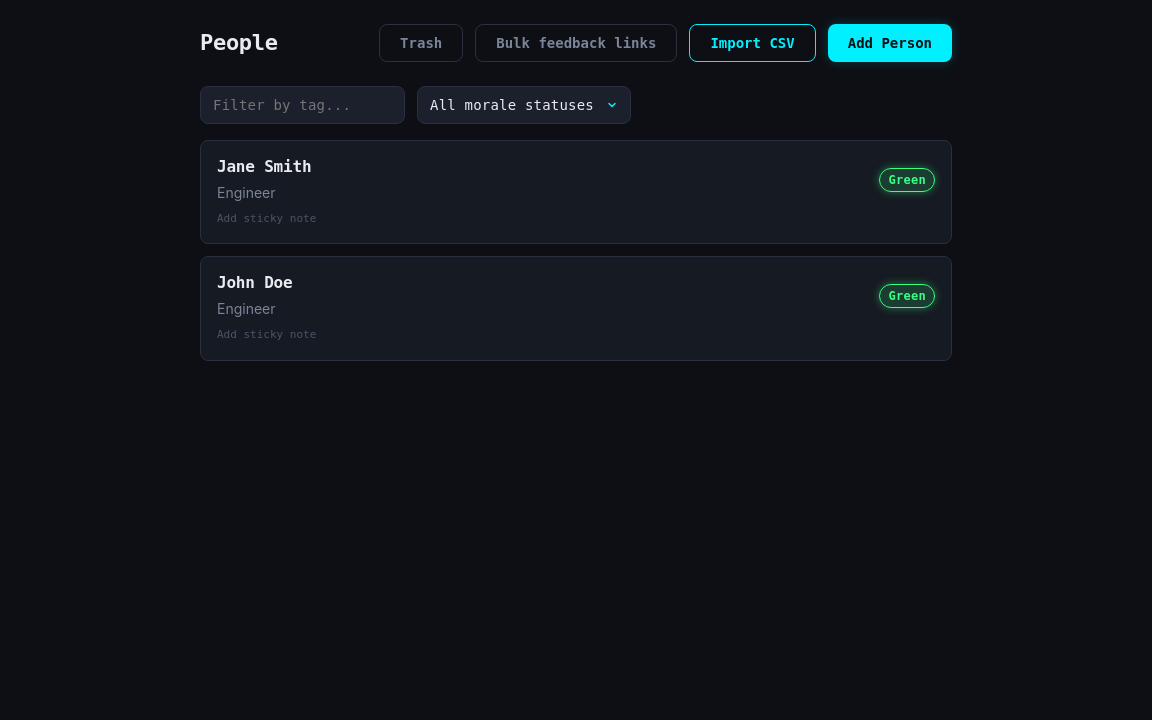
PeopleListPage - Bulk feedback links › renders a results table and a Download CSV button after creating links
The image size is (1152, 720).
Expected: the heading "Jane Smith" is shown, [217,157,311,178]
Click the button with test id "bulk-feedback-links-button" at (576, 43), box [475,24,678,62]
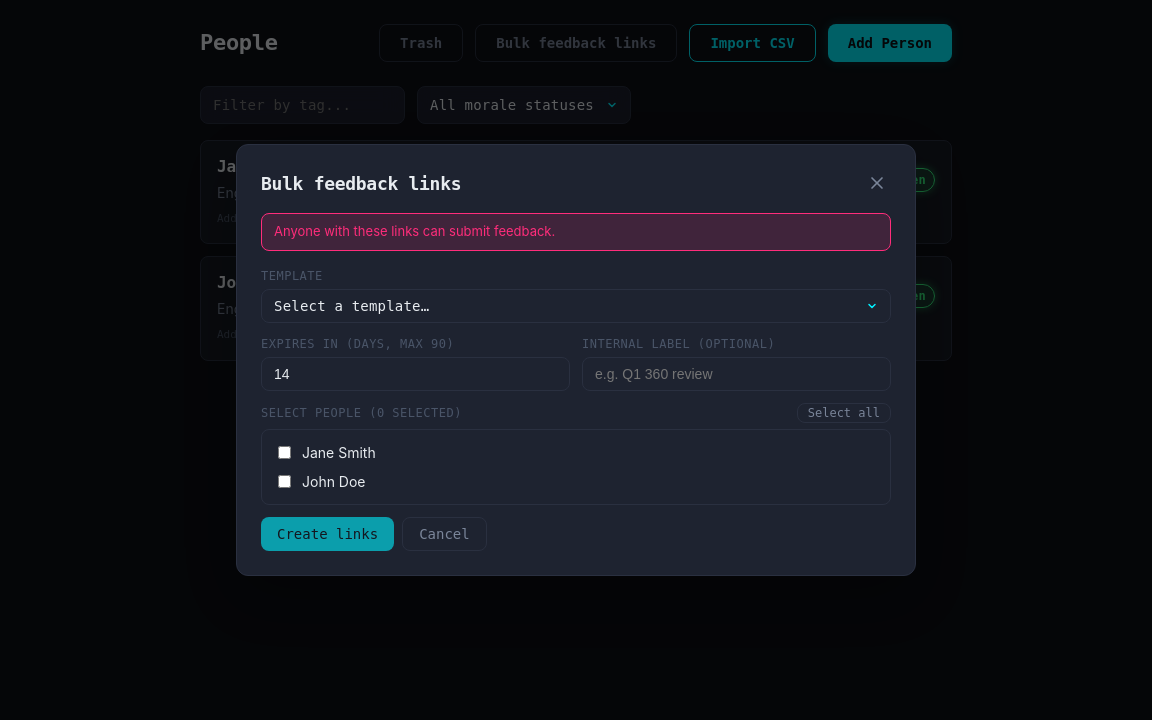
Select "Peer feedback" in the dropdown with test id "bulk-feedback-links-template-select" at (576, 306), box [261,289,891,323]
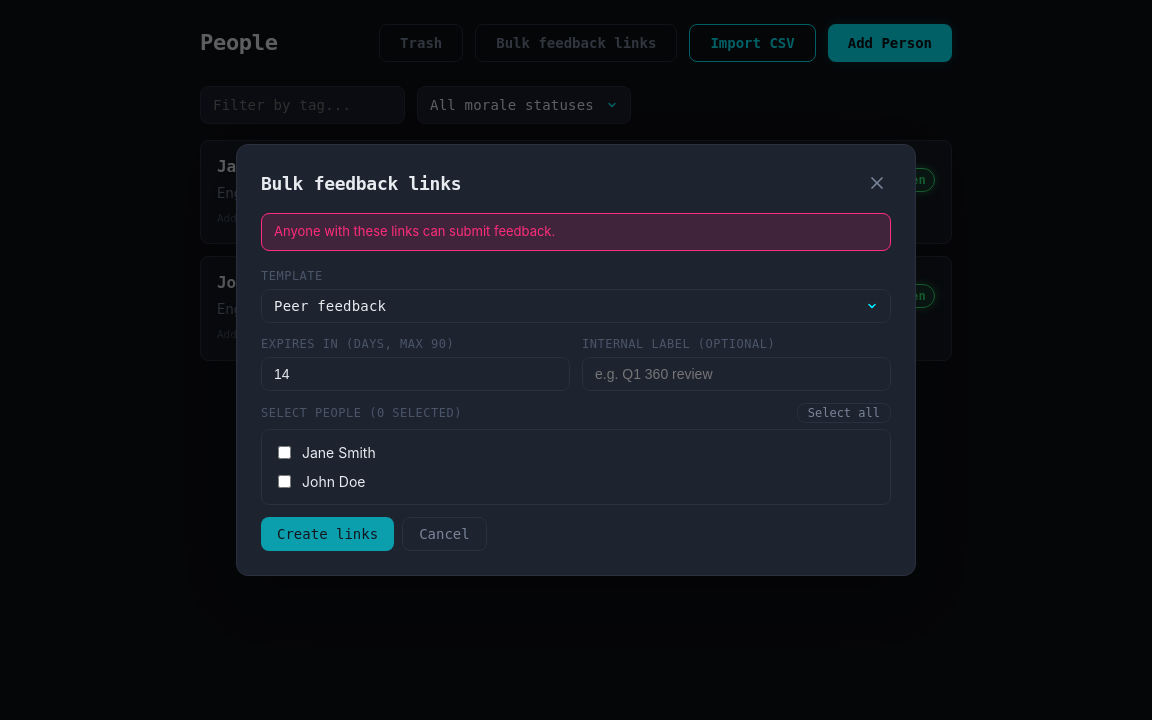
Click the checkbox with test id "bulk-feedback-links-person-p-1" at (284, 452), box [278,446,291,459]
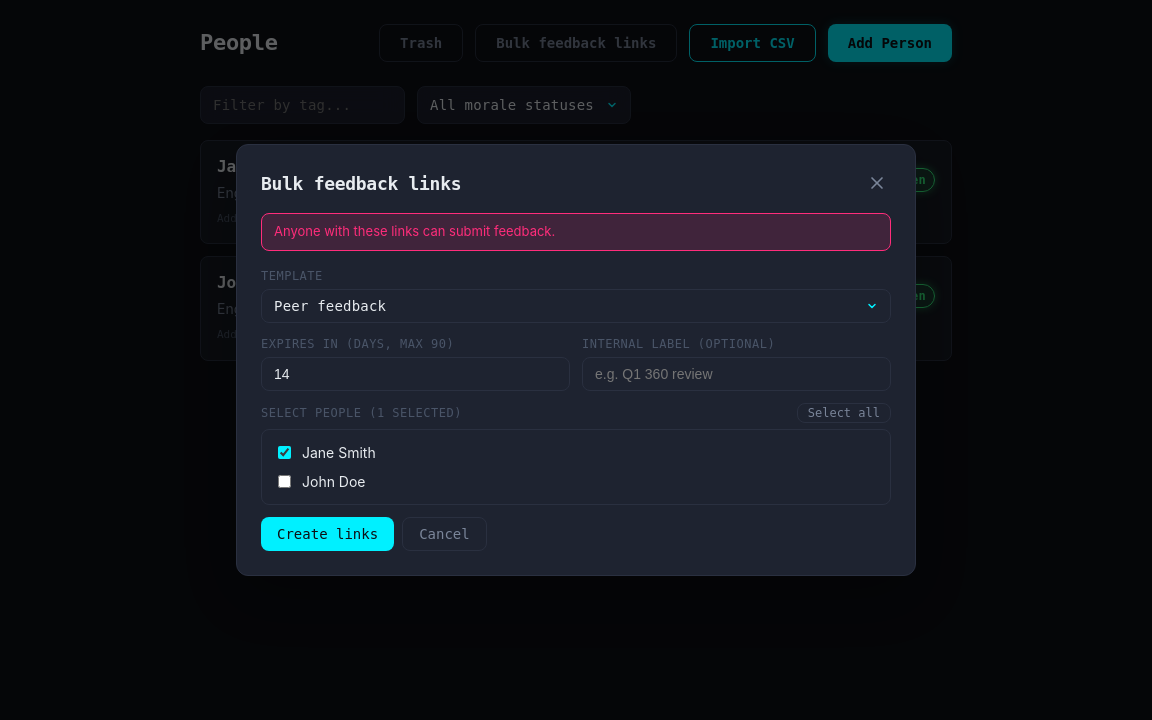
Click the button with test id "bulk-feedback-links-submit" at (328, 534), box [261,517,394,551]
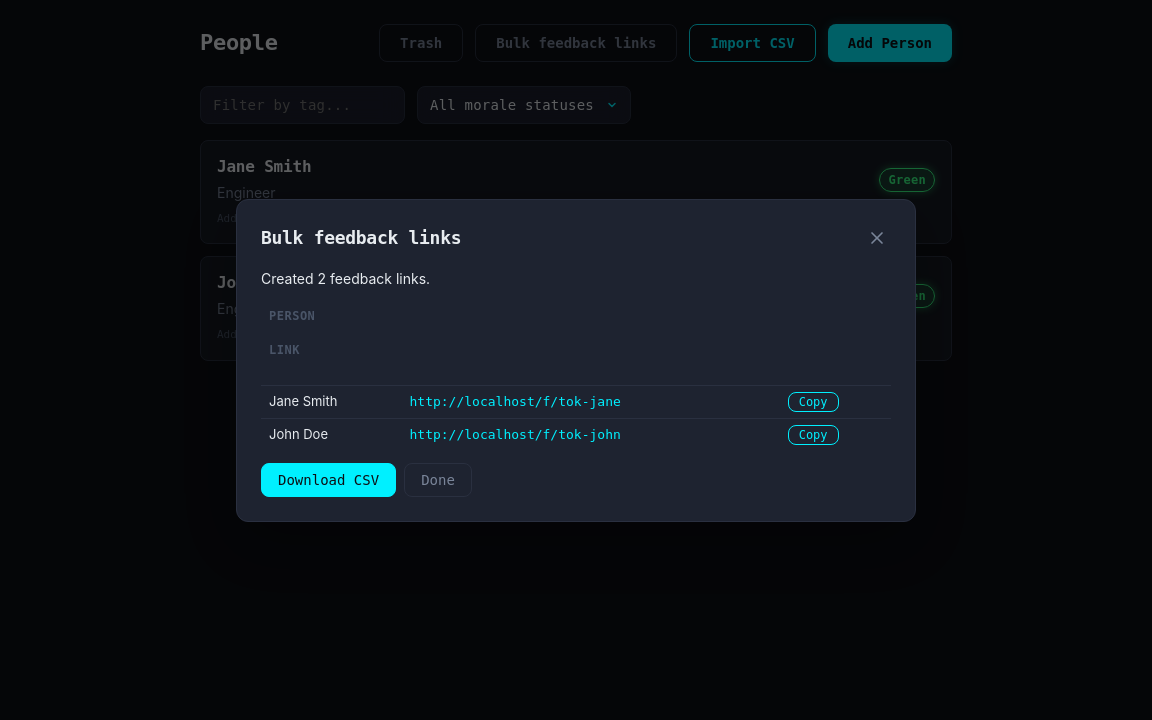
Expected: the table with test id "bulk-feedback-links-table" is shown, [261,300,891,450]
Expected: the row with test id "bulk-feedback-link-row-p-1" shows "Jane Smith", [269,393,338,409]
Expected: the button with test id "bulk-feedback-links-download-csv" is shown, [261,462,396,496]
